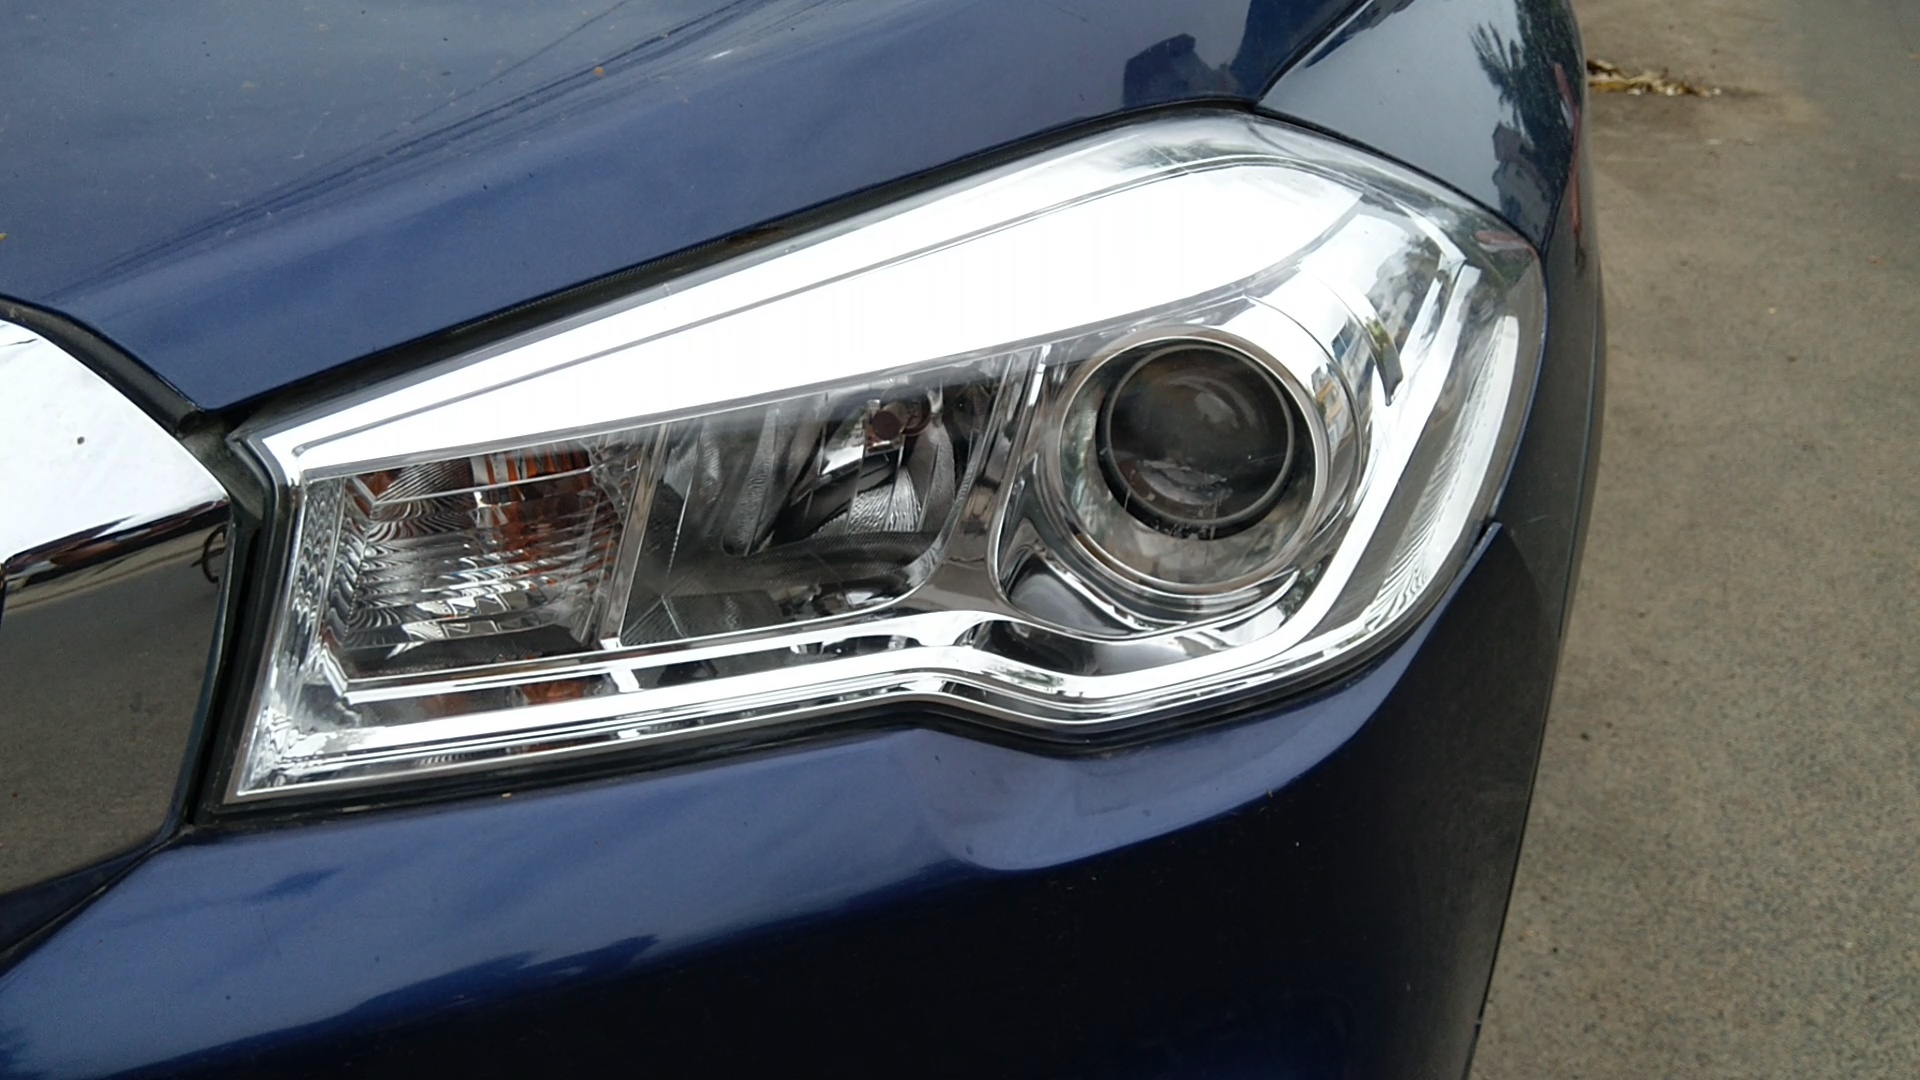headlamp: (174, 61, 1564, 947)
